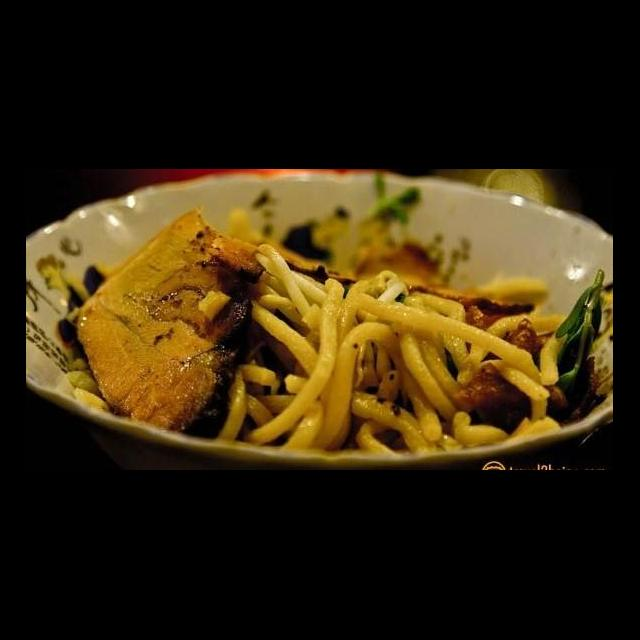mi: (203, 242, 574, 460)
thit heo: (72, 204, 276, 438)
